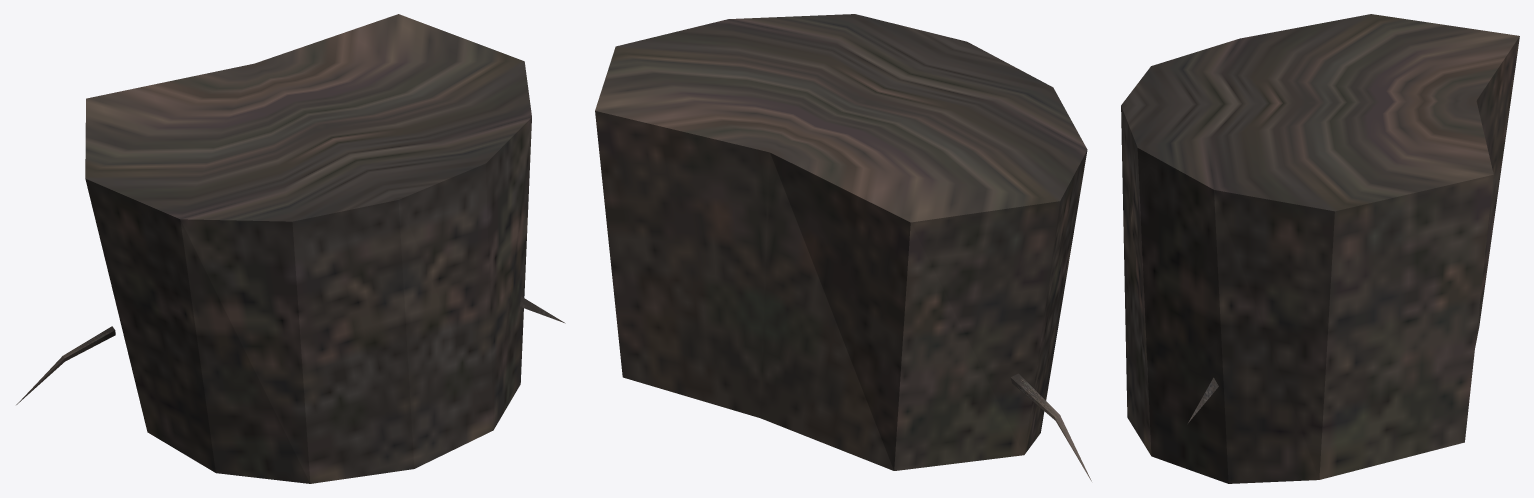
Rendered from trompa7.obj.
3 renders of one model, left to right at view 1: azimuth 30°, elevation 25°; view 2: azimuth 150°, elevation 25°; view 3: azimuth 270°, elevation 25°, orthographic. The views are drawn at different scales.
Parts seen in each view (by area): view 1: pasted__polySurface42 group; view 2: pasted__polySurface42 group; view 3: pasted__polySurface42 group.
Part boxes in pixels (x1=…): pasted__polySurface42 group: x1=16, y1=14, x2=565, y2=483; pasted__polySurface42 group: x1=595, y1=14, x2=1091, y2=481; pasted__polySurface42 group: x1=1121, y1=14, x2=1519, y2=483.
Size of the model in its own units: 1.37 by 0.8447 by 0.9146.
1 material, 1 textured.
